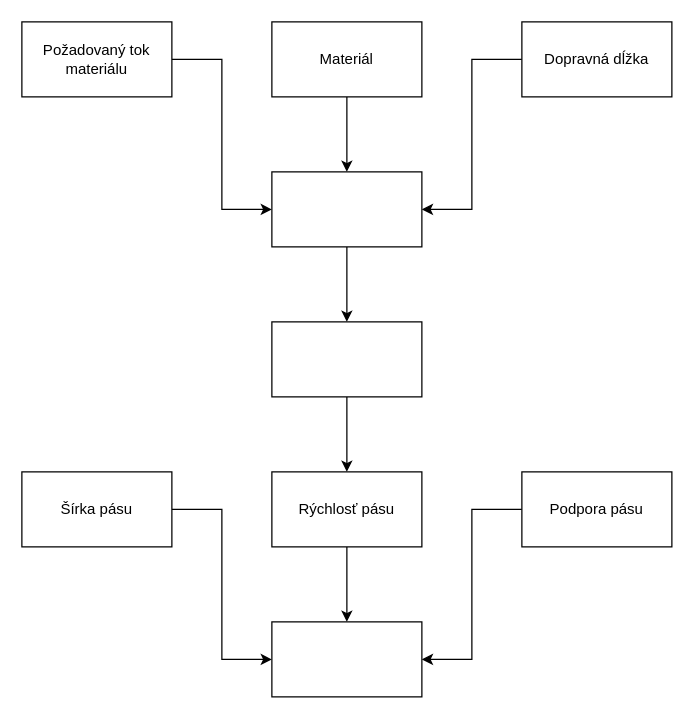
The diagram is 694 pixels wide and 719 high, and some of its shapes have lost their labels. Each missing label, with the centre of its shape:
Prevádzkový tok materiálu: pixel 346 659
Typ dopravníka: pixel 346 209
Typ pásu: pixel 346 359
